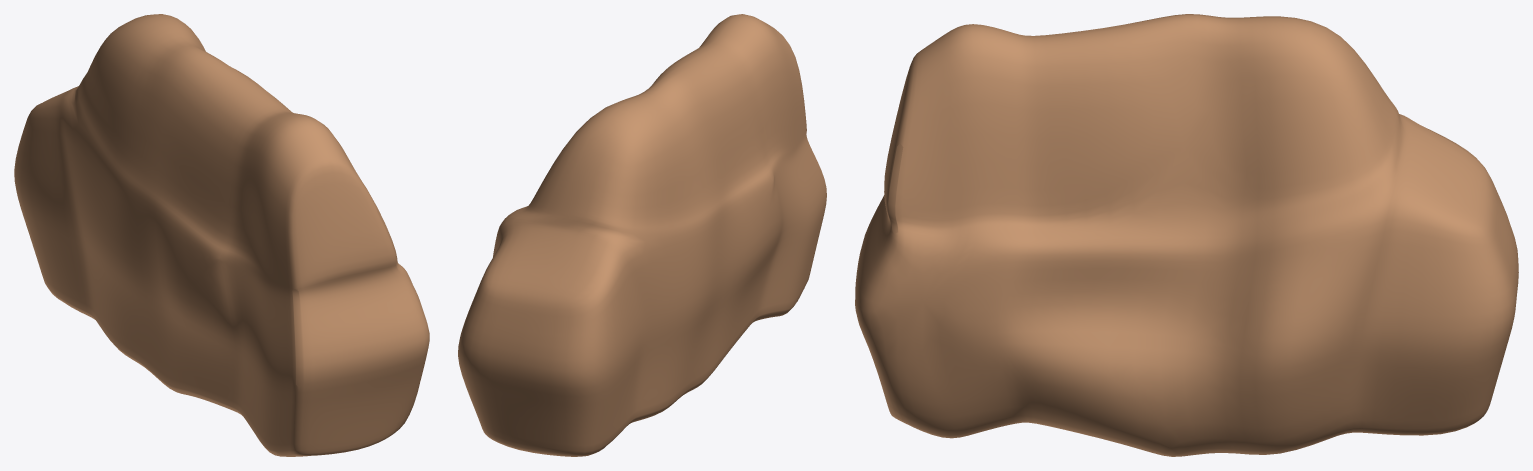
File: Boulder2.3Updated.fbx
3 renders of one model, left to right at view 1: azimuth 30°, elevation 25°; view 2: azimuth 150°, elevation 25°; view 3: azimuth 270°, elevation 25°, orthographic. The views are drawn at different scales.
Visible parts, largest first — view 1: Boulder2; view 2: Boulder2; view 3: Boulder2.
Boxes of the visible parts, bbox=[...] form: Boulder2: bbox=[14, 14, 429, 456]; Boulder2: bbox=[458, 14, 826, 456]; Boulder2: bbox=[855, 14, 1518, 456].
Bounding box in the file's own units: 463 × 733 × 1120.
